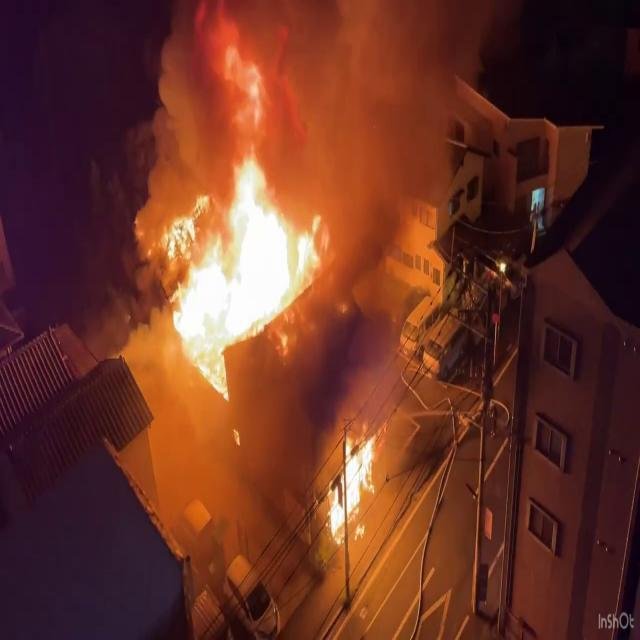Fire: (152, 130, 324, 396), (322, 420, 384, 550)
Smoke: (164, 0, 462, 204)
